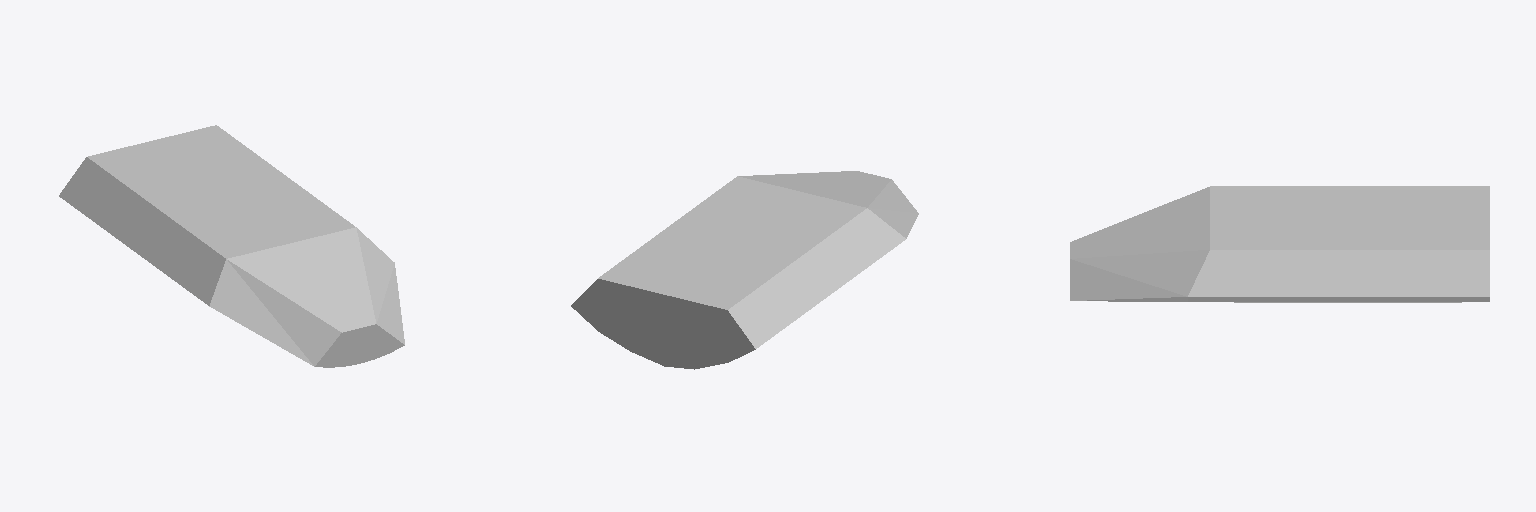
Rendered from RoadLight4.obj.
3 views of the same model, side by side, from view 1: azimuth 30°, elevation 25°; view 2: azimuth 150°, elevation 25°; view 3: azimuth 270°, elevation 25° (orthographic).
Bounding box in the file's own units: 0.9748 × 0.3847 × 1.91.